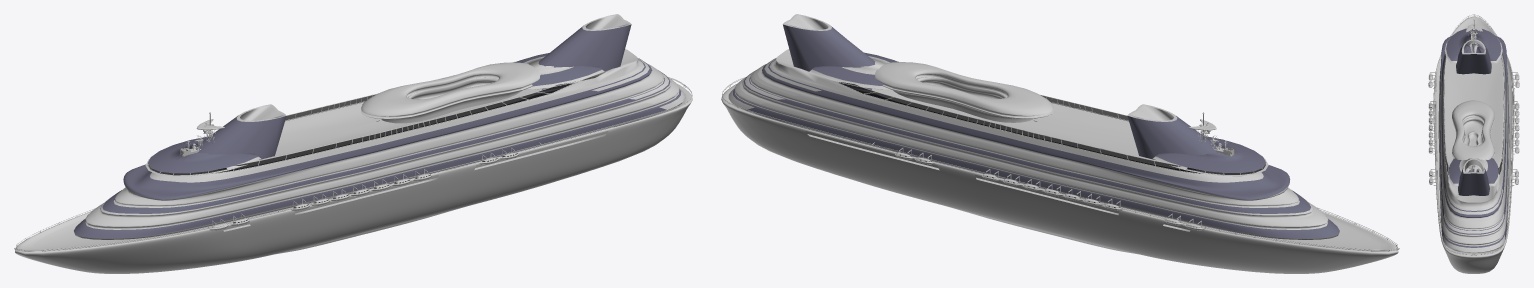
File: Cruiser_2012.obj
3 renders of one model, left to right at view 1: azimuth 30°, elevation 25°; view 2: azimuth 150°, elevation 25°; view 3: azimuth 270°, elevation 25°, orthographic. The views are drawn at different scales.
Parts seen in each view (by area): view 1: default, default_roofs, default_floors, default_towers, default_glass, default_emergency_boats, default_rear_windows; view 2: default, default_roofs, default_floors, default_towers, default_glass, default_emergency_boats, default_rear_windows; view 3: default, default_floors, default_roofs, default_towers, default_rear_windows, default_emergency_boats, default_glass.
Boxes of the visible parts, left/top/right/bottom form: default: left=14, top=14, right=692, bottom=273; default_roofs: left=74, top=53, right=681, bottom=238; default_floors: left=32, top=89, right=659, bottom=250; default_towers: left=195, top=24, right=631, bottom=170; default_glass: left=148, top=62, right=575, bottom=175; default_emergency_boats: left=209, top=148, right=518, bottom=230; default_rear_windows: left=592, top=57, right=685, bottom=109; default: left=721, top=14, right=1399, bottom=273; default_roofs: left=733, top=52, right=1339, bottom=238; default_floors: left=752, top=88, right=1380, bottom=250; default_towers: left=783, top=24, right=1217, bottom=171; default_glass: left=839, top=82, right=1265, bottom=174; default_emergency_boats: left=895, top=148, right=1204, bottom=230; default_rear_windows: left=722, top=57, right=819, bottom=109; default: left=1433, top=14, right=1514, bottom=273; default_floors: left=1435, top=23, right=1512, bottom=221; default_roofs: left=1438, top=28, right=1509, bottom=247; default_towers: left=1456, top=39, right=1491, bottom=195; default_rear_windows: left=1443, top=188, right=1504, bottom=252; default_emergency_boats: left=1428, top=72, right=1519, bottom=185; default_glass: left=1444, top=73, right=1504, bottom=174.
Bounding box in the file's own units: 1041 × 226 × 167.
